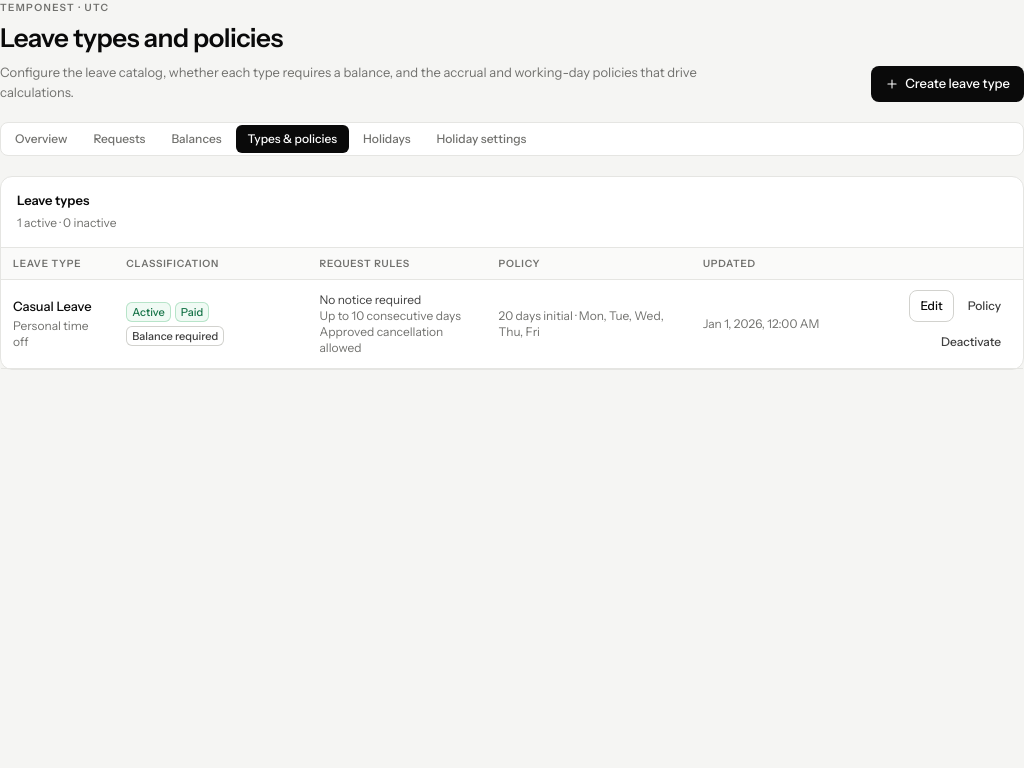
Test: LeaveTypesView › validates a new leave type before creating it
Expected: the table is shown, x1=1 y1=248 x2=1023 y2=368
Click the button "Create leave type" at (948, 84), box x1=871 y1=66 x2=1023 y2=102
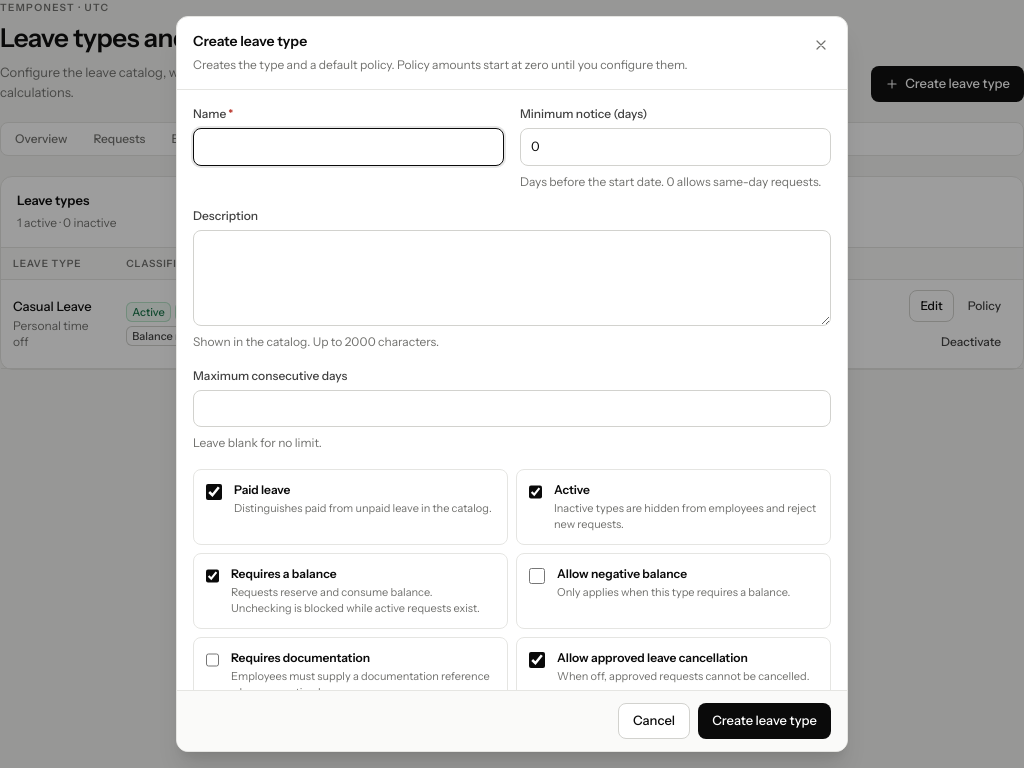
Click the button "Create leave type" at (765, 721), box x1=698 y1=703 x2=831 y2=739
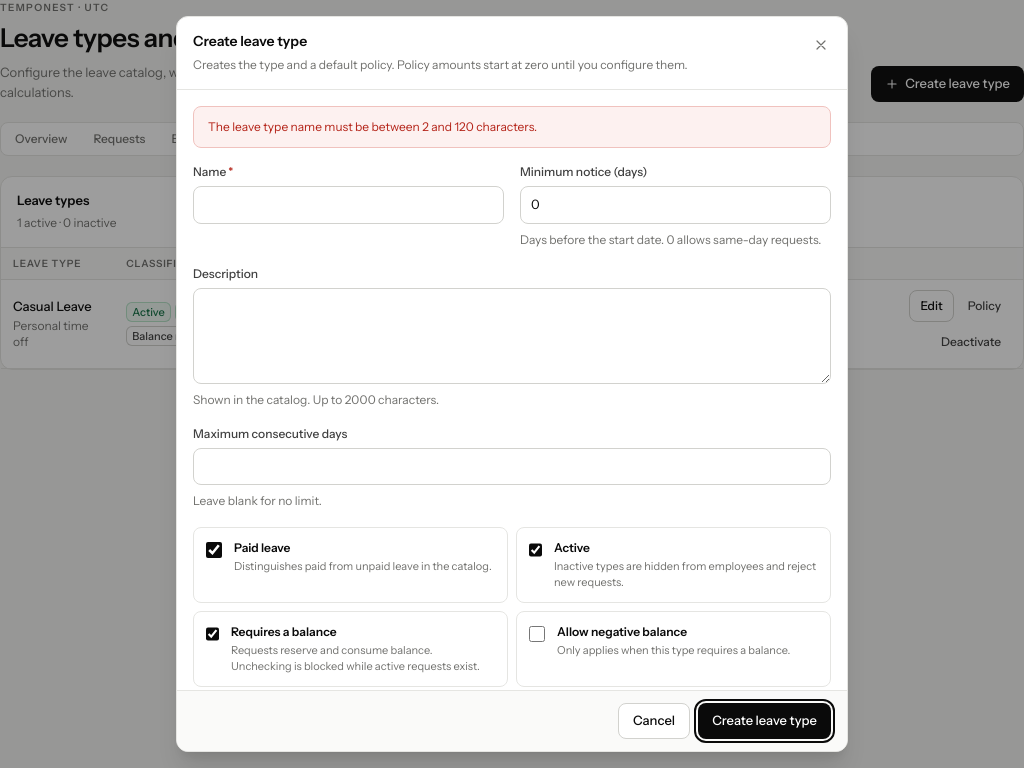
Result: the text "The leave type name must be between 2 and 120 characters." is shown at x1=208 y1=119 x2=537 y2=134
Type "Sick Leave" into the field labelled "Name*" at (348, 205), box x1=193 y1=186 x2=504 y2=224
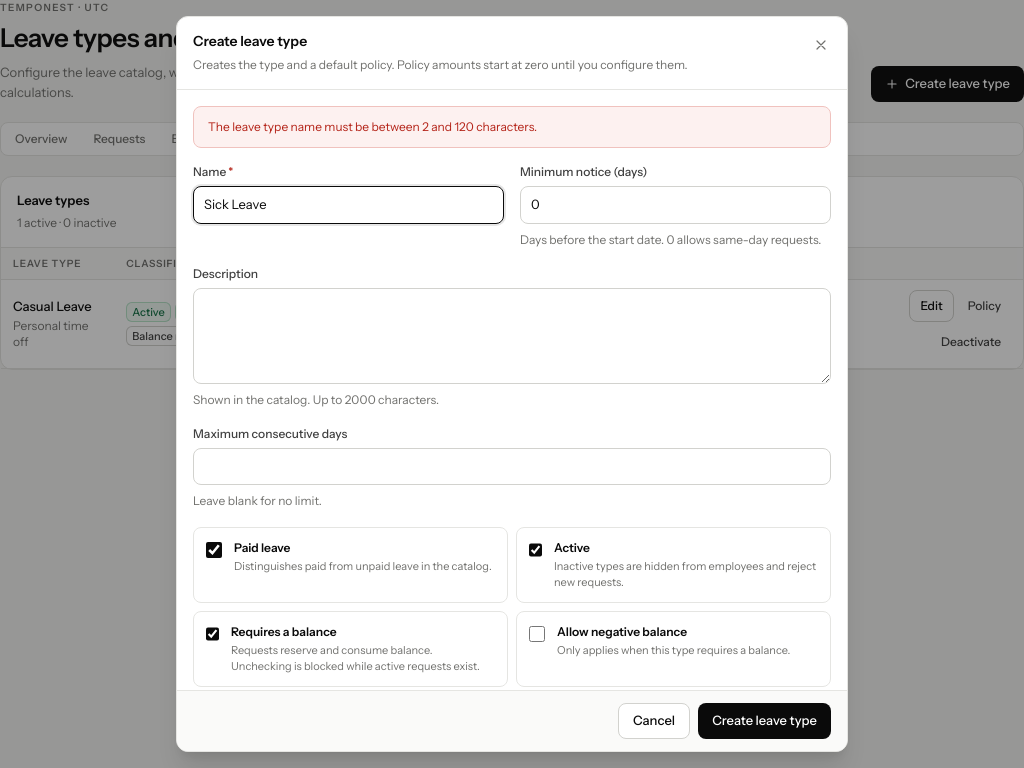
Click the button "Create leave type" at (765, 721), box x1=698 y1=703 x2=831 y2=739
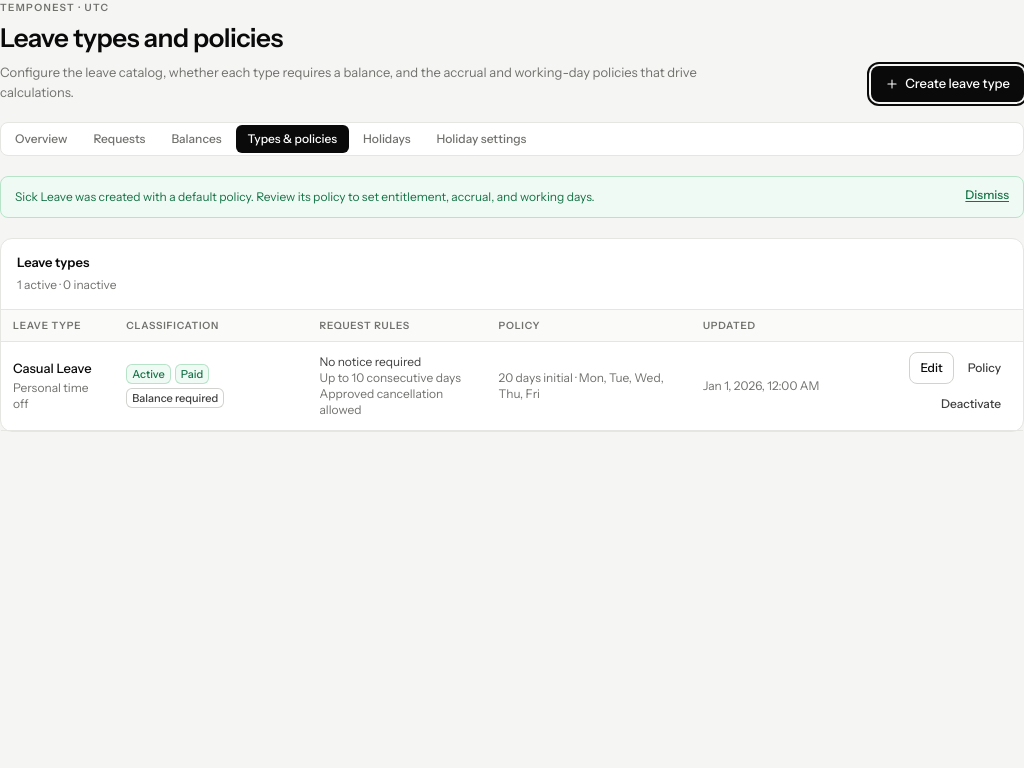
Result: the text "Sick Leave was created with a default policy. Review its policy to set entitlement, accrual, and working days." is shown at x1=15 y1=189 x2=595 y2=204
